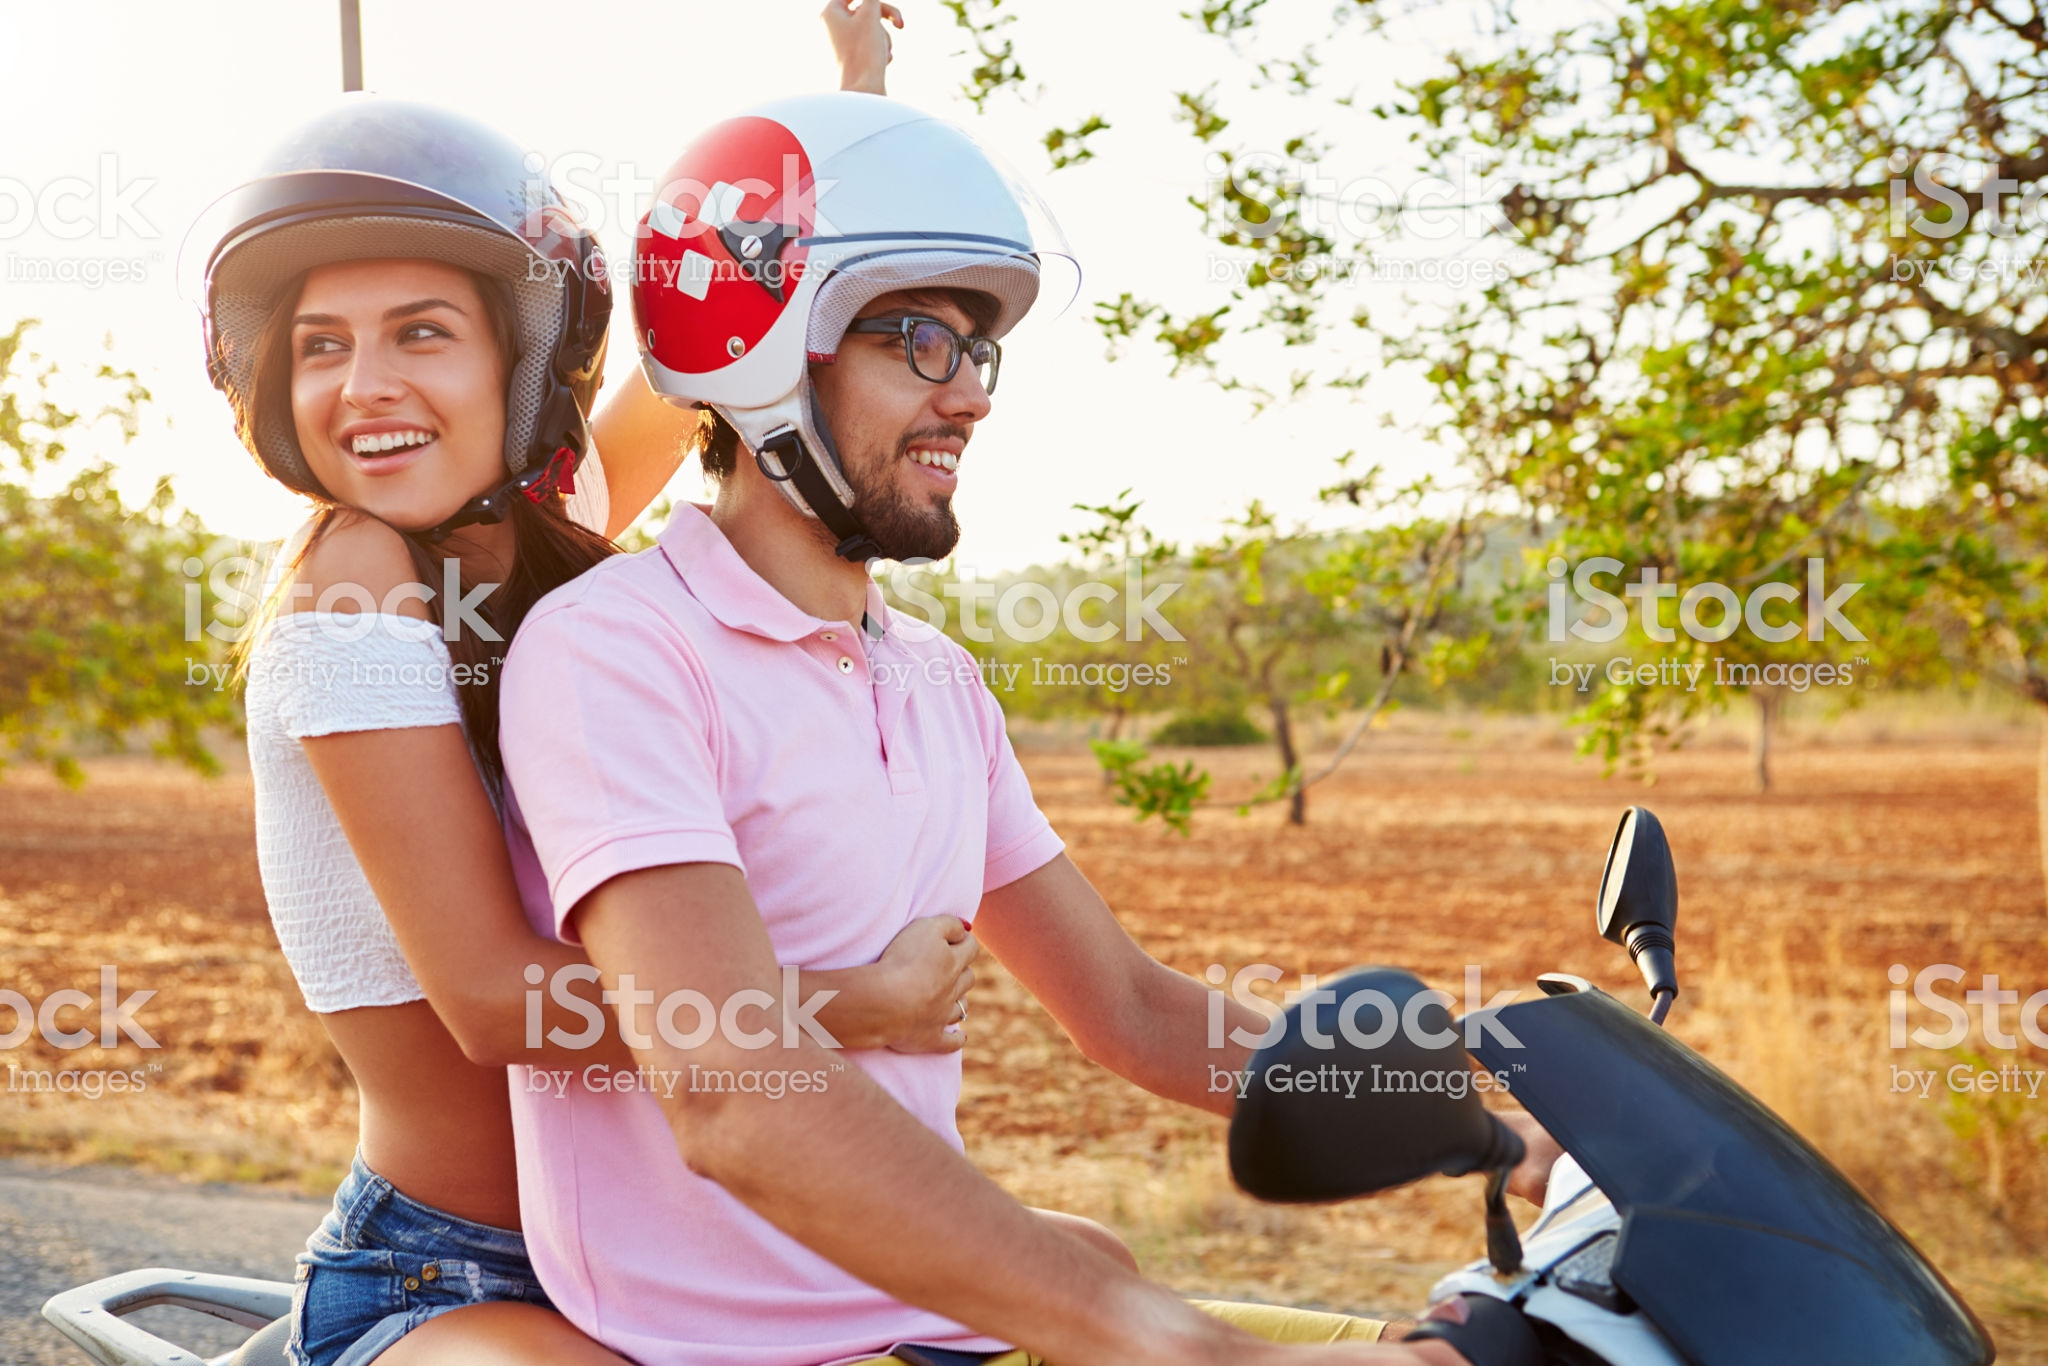helmet: (181, 114, 669, 442), (654, 95, 1035, 406)
